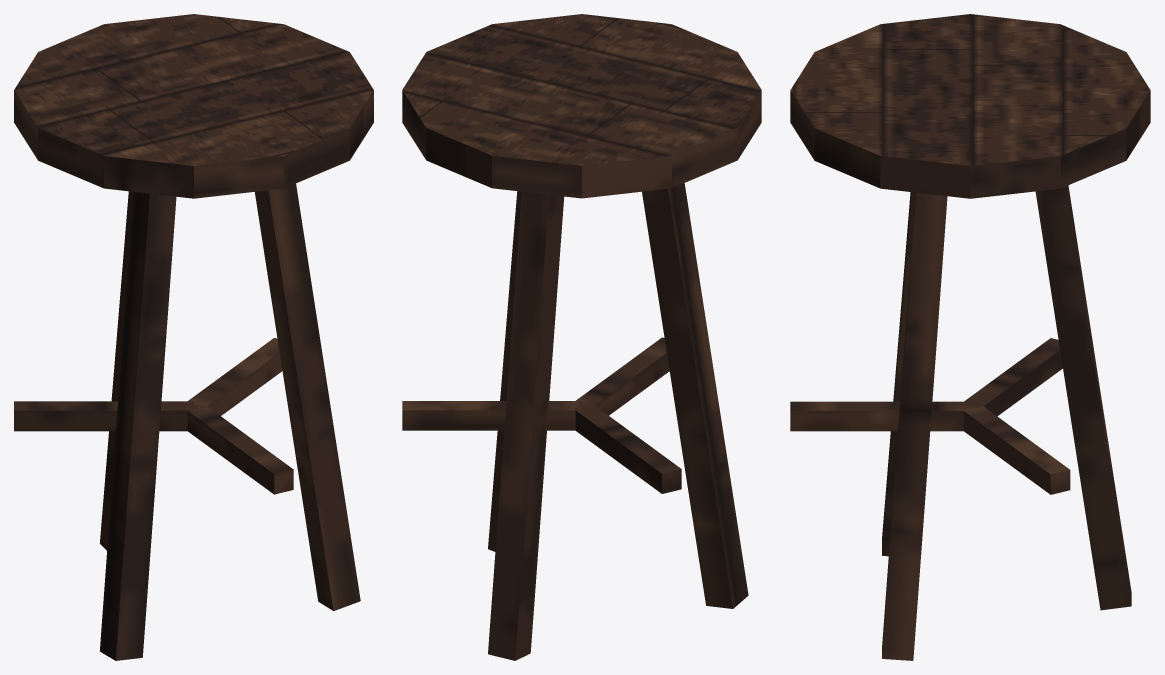
File: Furn_Stool_Artist.fbx
The picture shows the model from 3 angles, left to right: view 1: azimuth 30°, elevation 25°; view 2: azimuth 150°, elevation 25°; view 3: azimuth 270°, elevation 25°; orthographic projection.
Visible parts, largest first — view 1: Furn_Stool_Artist; view 2: Furn_Stool_Artist; view 3: Furn_Stool_Artist.
Part boxes in pixels (x1=…): Furn_Stool_Artist: x1=14, y1=14, x2=373, y2=660; Furn_Stool_Artist: x1=402, y1=14, x2=761, y2=660; Furn_Stool_Artist: x1=790, y1=14, x2=1150, y2=660.
Bounding box in the file's own units: 0.4 × 0.6304 × 0.4.
